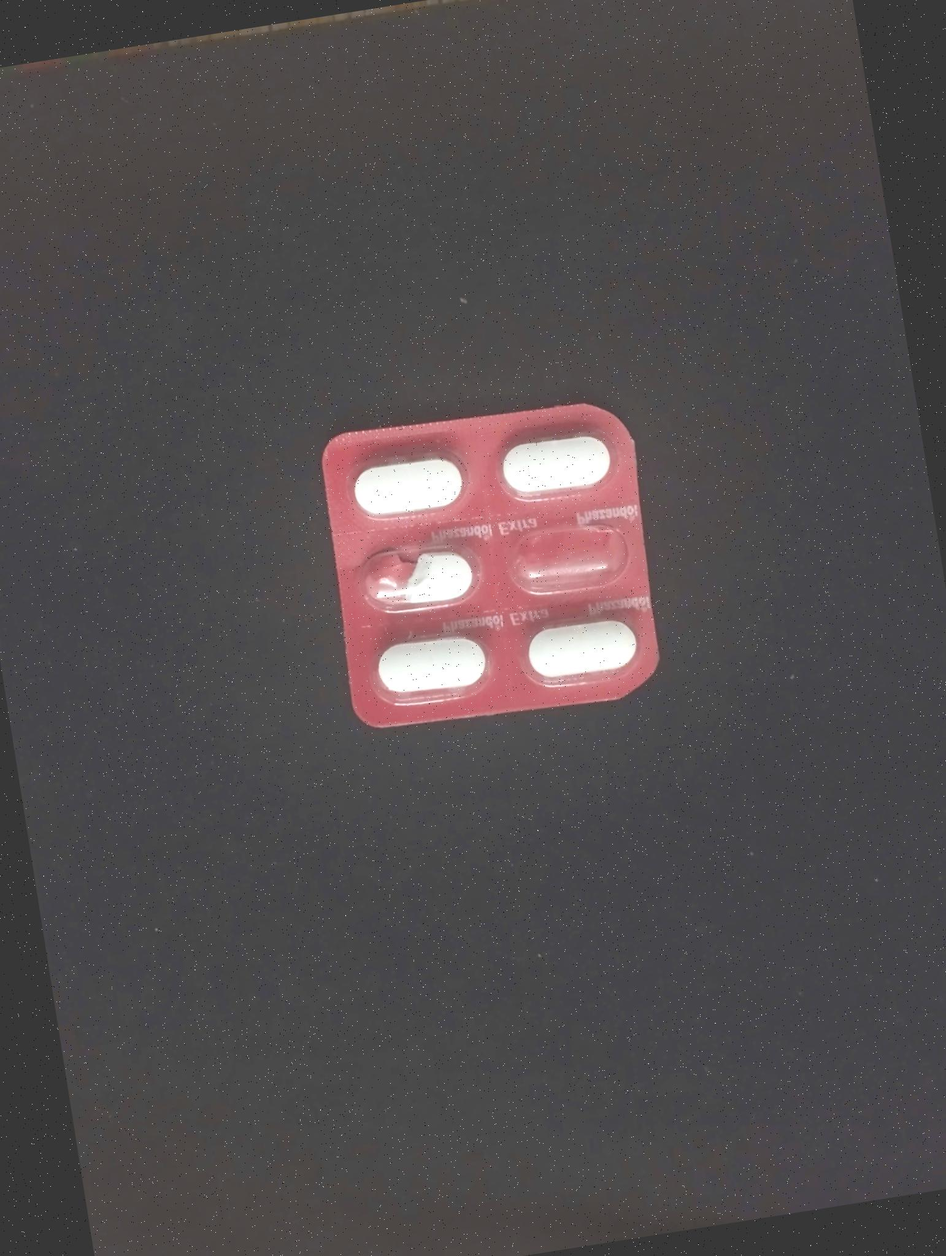Empty: (506, 511, 636, 599)
Full: (344, 435, 477, 534), (368, 614, 500, 702), (493, 419, 621, 504), (518, 608, 646, 684)
Partial: (353, 531, 500, 621)
